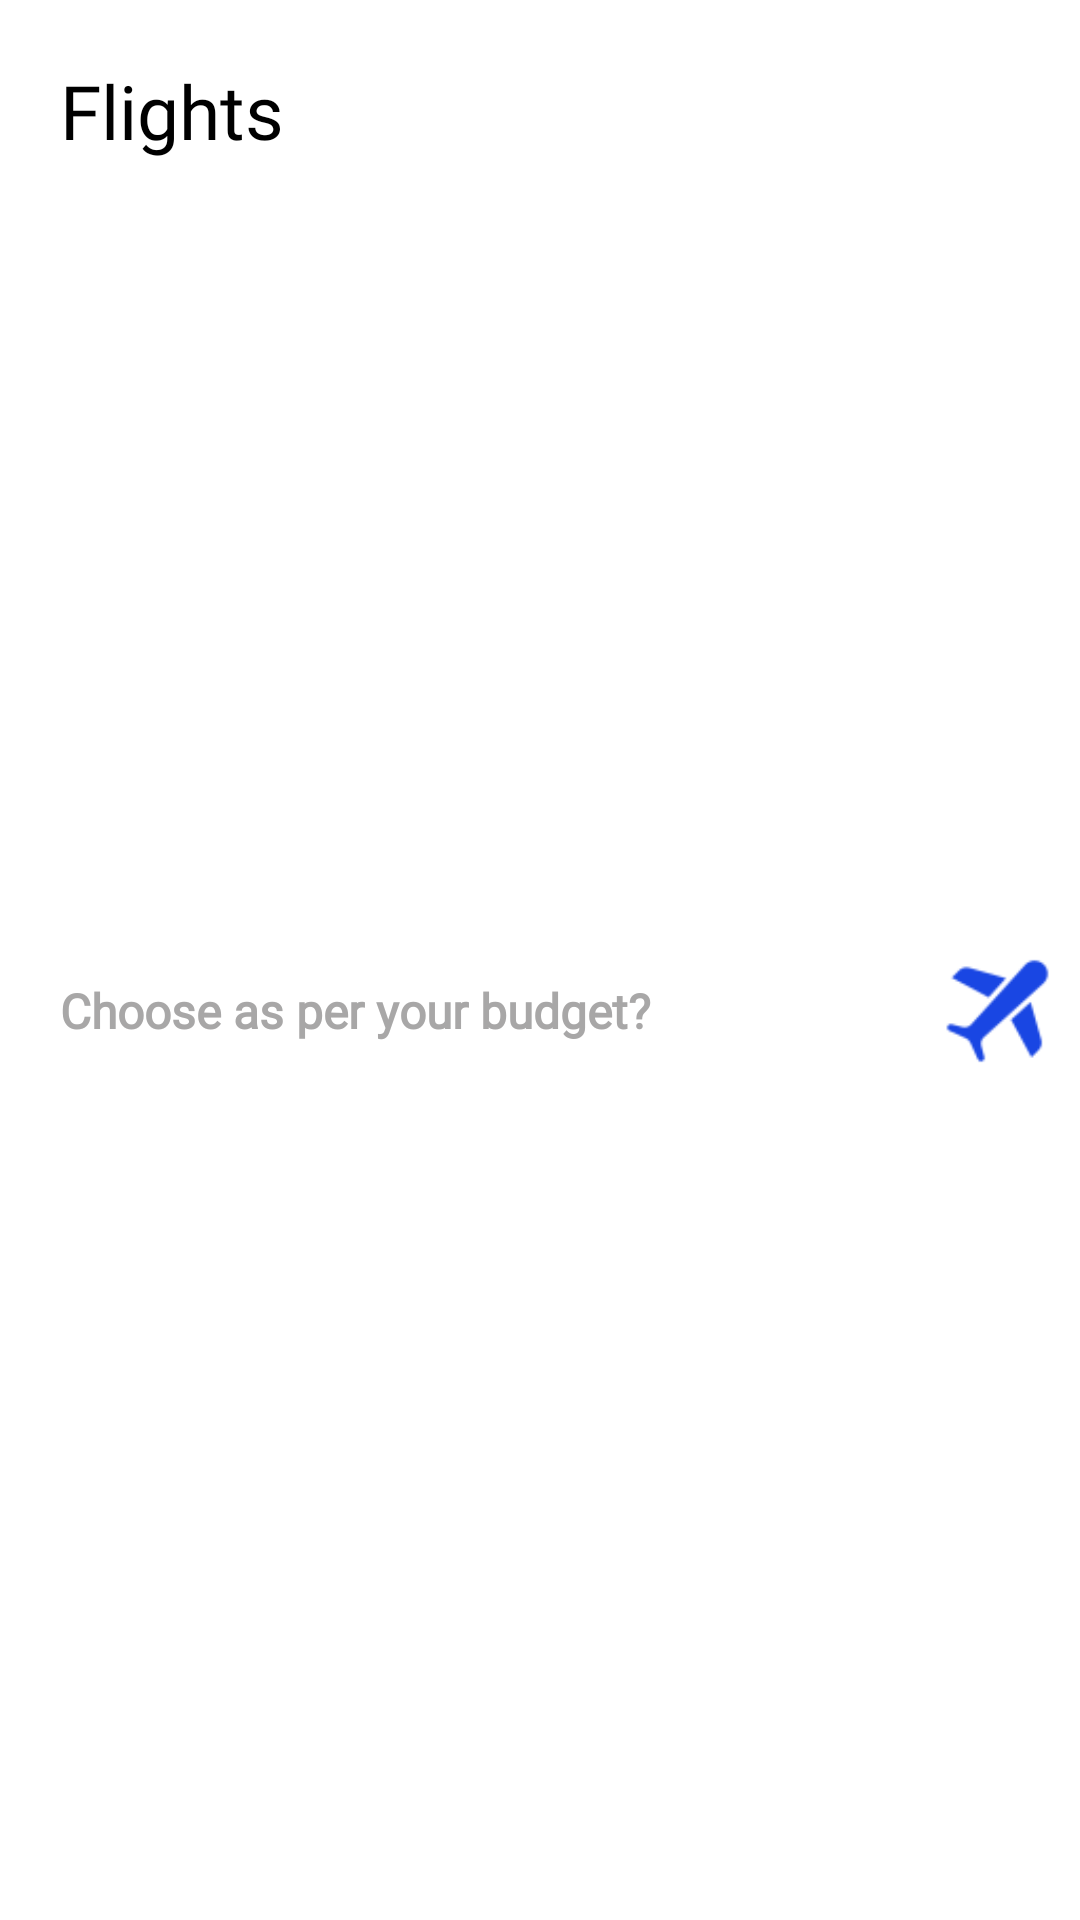

Named icons in this screenshot (1080 x 1920) and their centers, (x=x, y=y):
flighticon: (x=997, y=1011)
